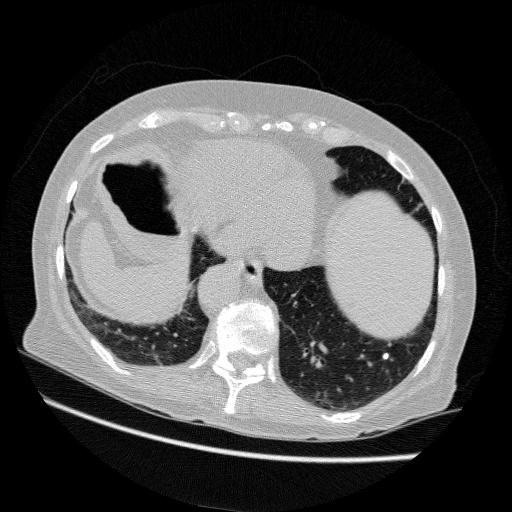nodule: (382, 350, 396, 364)
